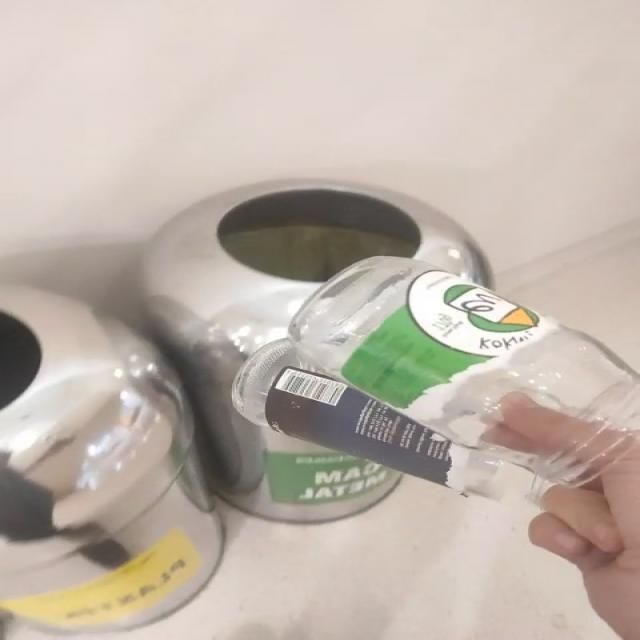Glass: (232, 258, 637, 498)
